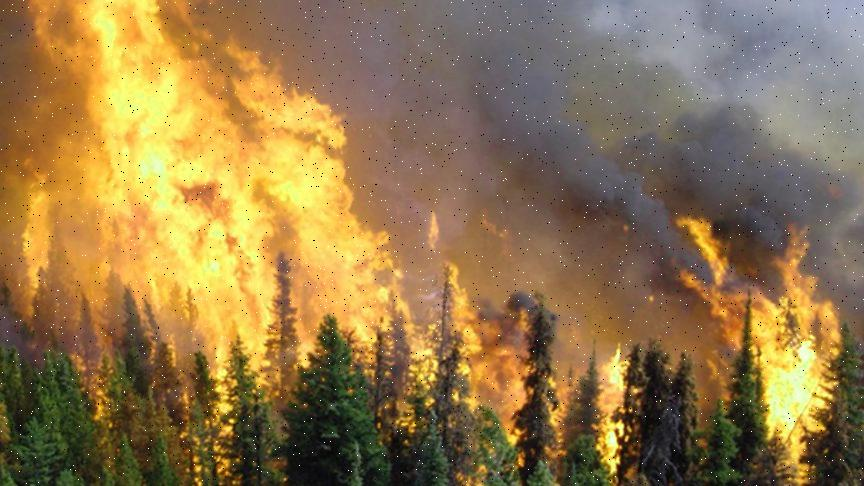fire: (7, 0, 431, 486), (449, 232, 860, 478)
